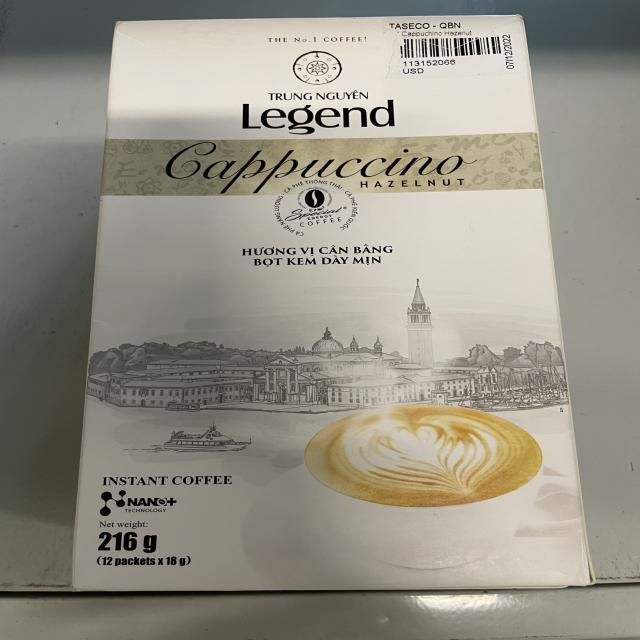object_name: (68, 21, 557, 587)
